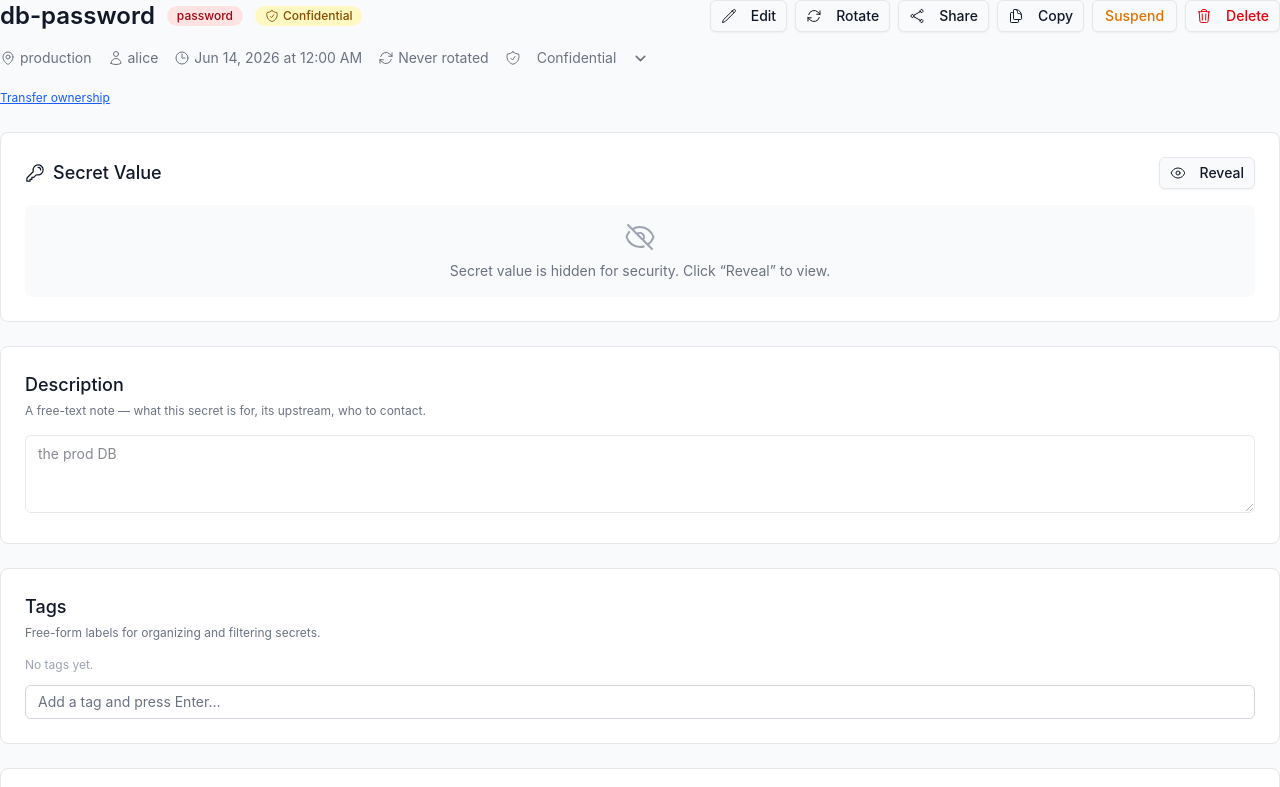
Test: SecretDetailView secret value reveal › reveals the decoded plaintext value and copies it to the clipboard
What coordinates should you click on to do the following:
click the button "Reveal"
I would click on:
 (1207, 173)
Its box is [1158, 157, 1255, 189].
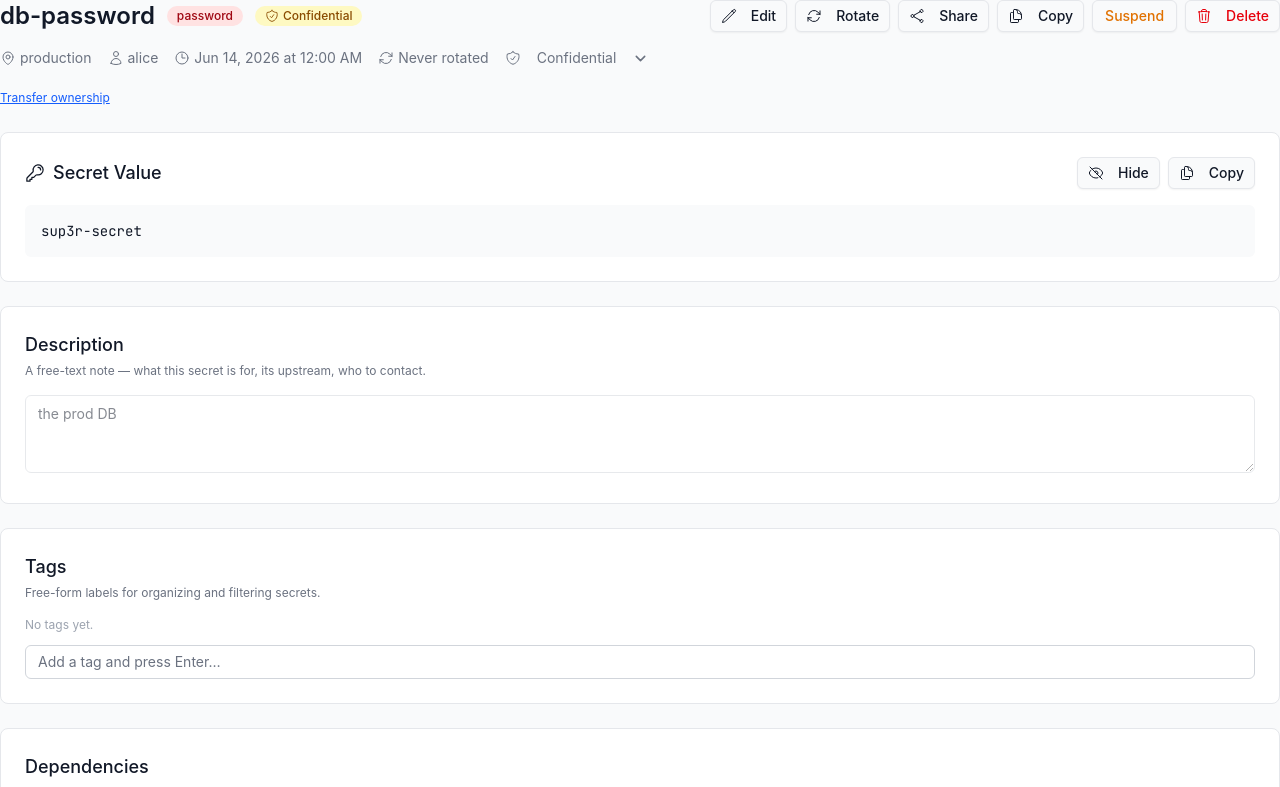
Expected: the text "sup3r-secret" is shown, [41, 222, 142, 240]
Expected: the button "Hide" is shown, [1077, 157, 1160, 189]
Expected: the number of buttons "Copy" is 2
What coordinates should you click on to do the following:
click the button "Copy" in the row of "Secret Value"
I would click on:
 (1211, 173)
Its box is [1168, 157, 1255, 189].
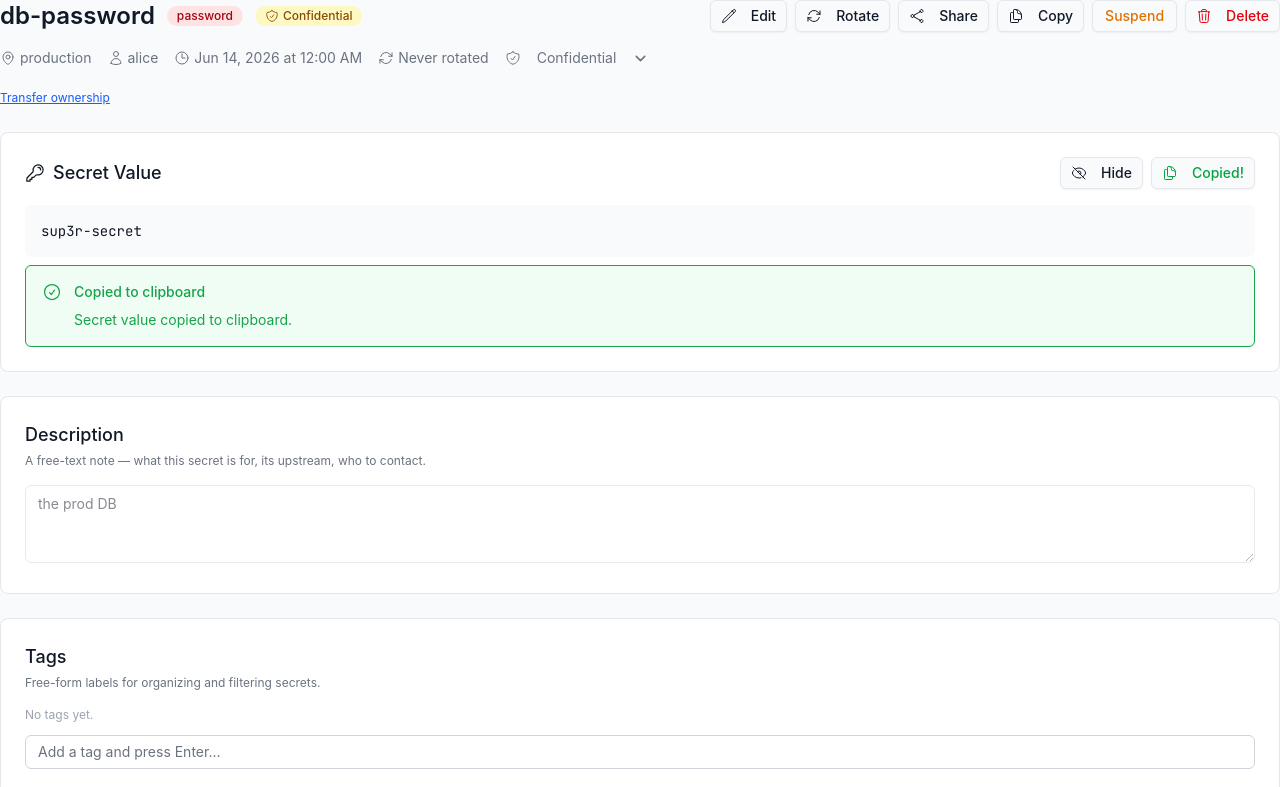
Expected: the button "Copied!" is shown, [1151, 157, 1255, 189]
Expected: the text "Secret value copied to clipboard." is shown, [74, 311, 292, 328]
